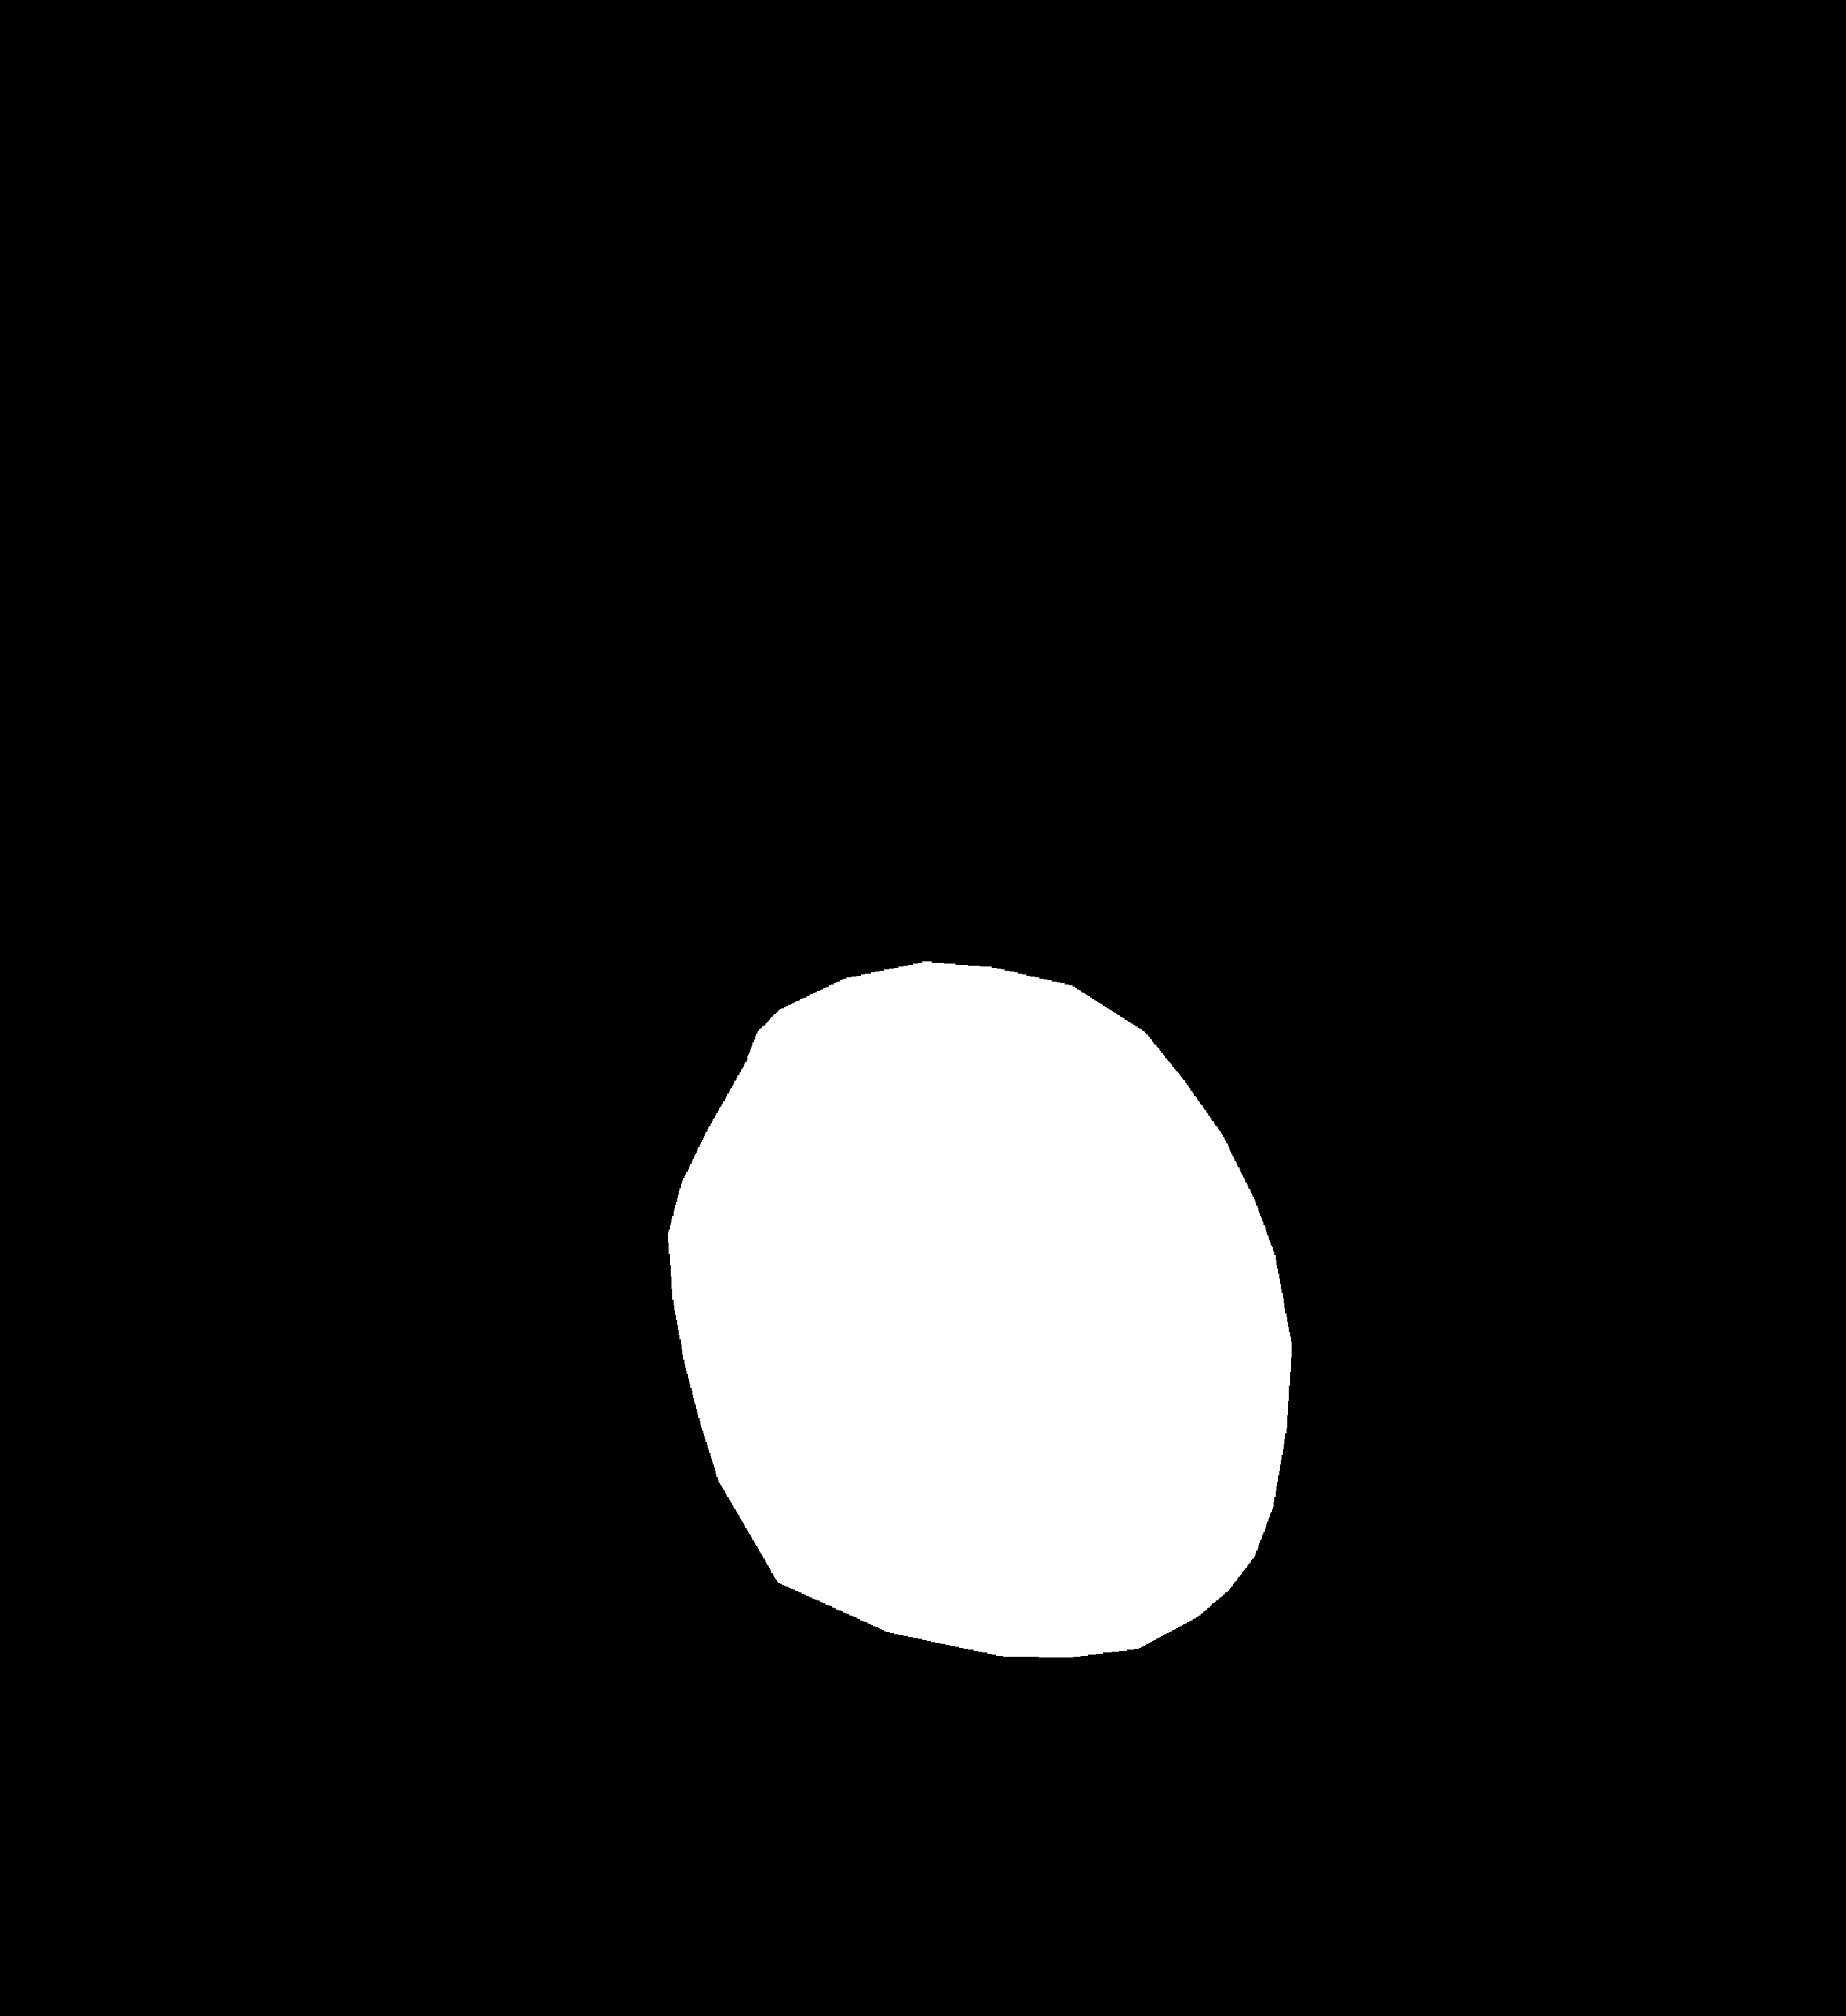heart: (667, 1031, 1291, 1647)
left_lung: (153, 281, 878, 1763)
right_lung: (1029, 316, 1667, 1844)
